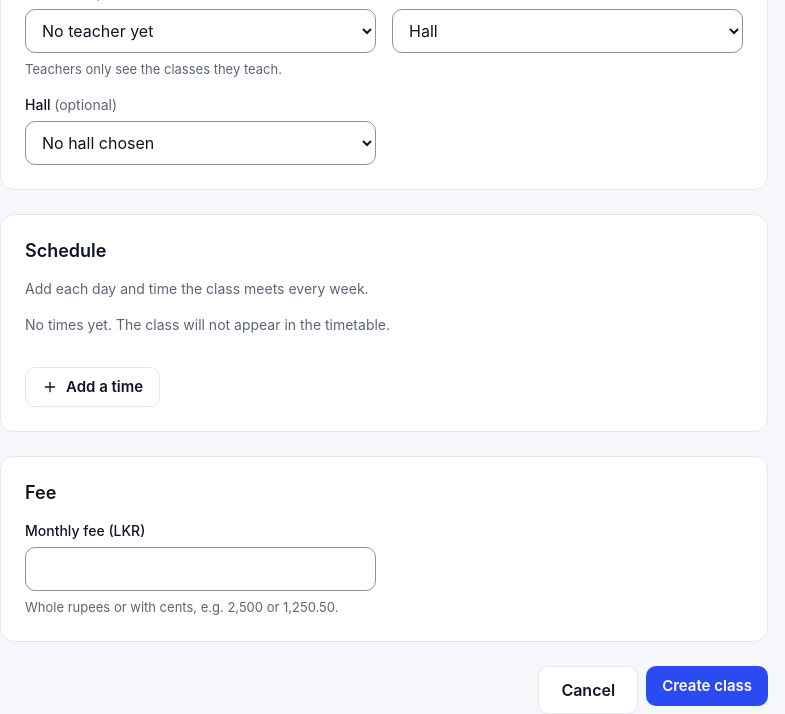
Test: ClassForm — create › shows what is wrong and sends nothing: missing name, bad fee, same time twice
The width and height of the screenshot is (785, 714).
(page scrolled)
Type "lots" into the field labelled "Monthly fee (LKR)".
click(200, 569); type("lots")  # box [25,547,376,591]
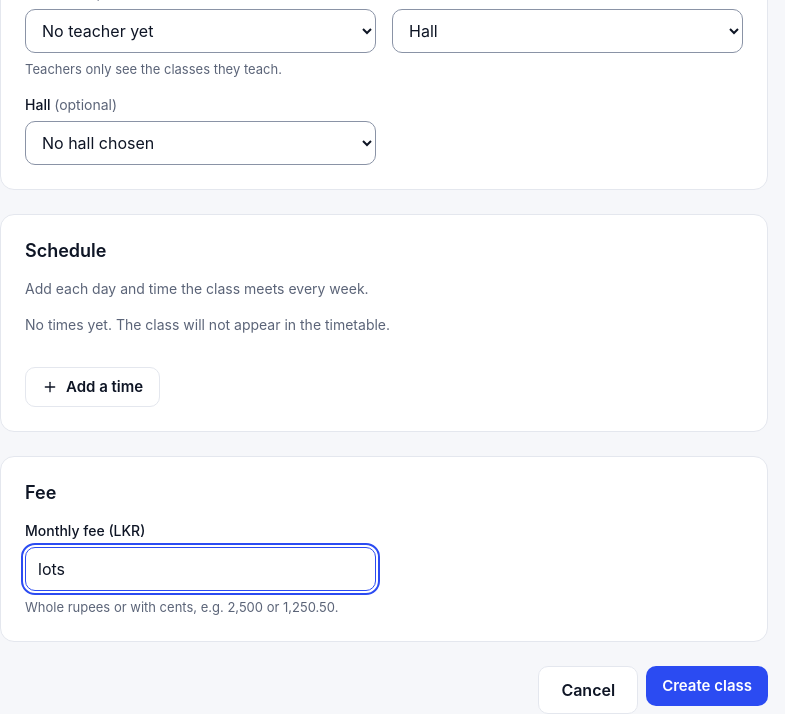
Click the button "Add a time".
click(93, 387)  # box [25,367,160,407]
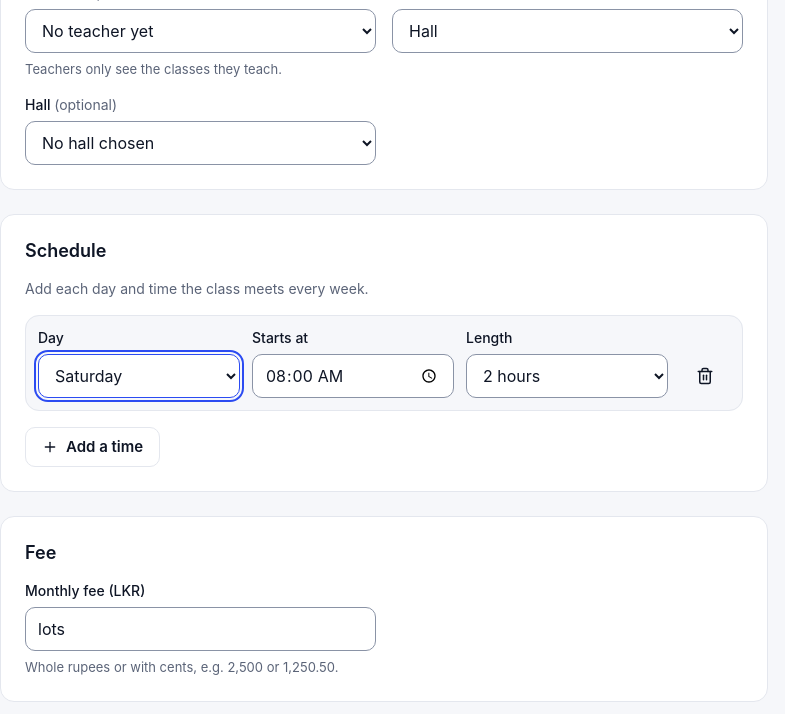
Click the button "Add a time".
click(93, 447)  # box [25,427,160,467]
(page scrolled)
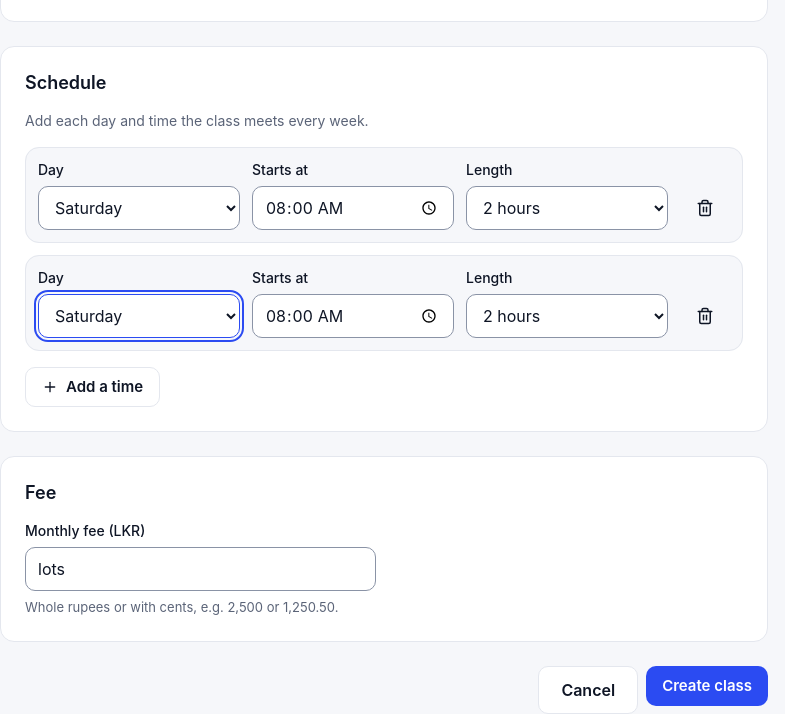
Click the button "Create class".
click(707, 686)  # box [646,666,768,706]
(page scrolled)
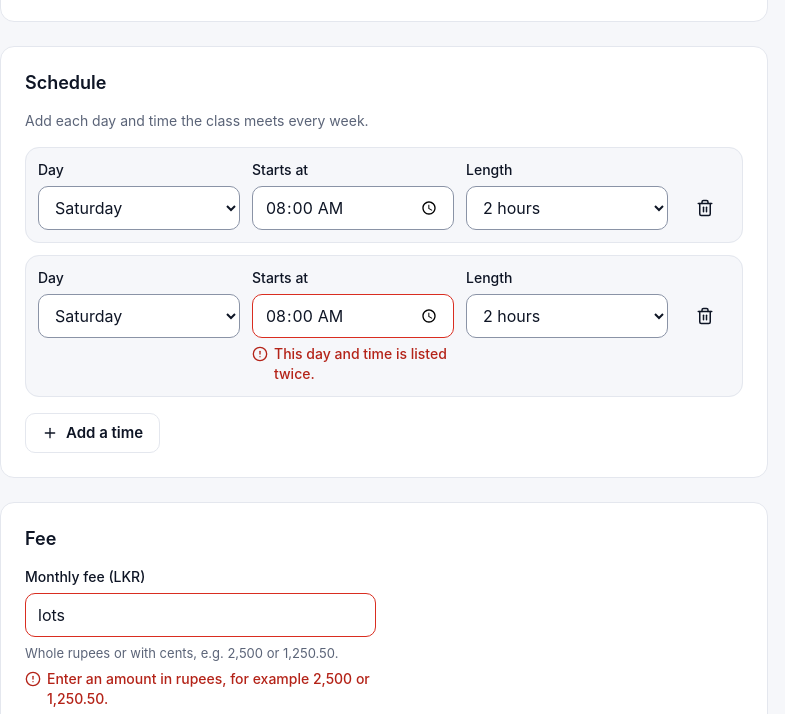
Expected: the text "Enter an amount in rupees, for example 2,500 or 1,250.50." is shown, [47,669,376,709]
Expected: the text "This day and time is listed twice." is shown, [274,344,454,384]
